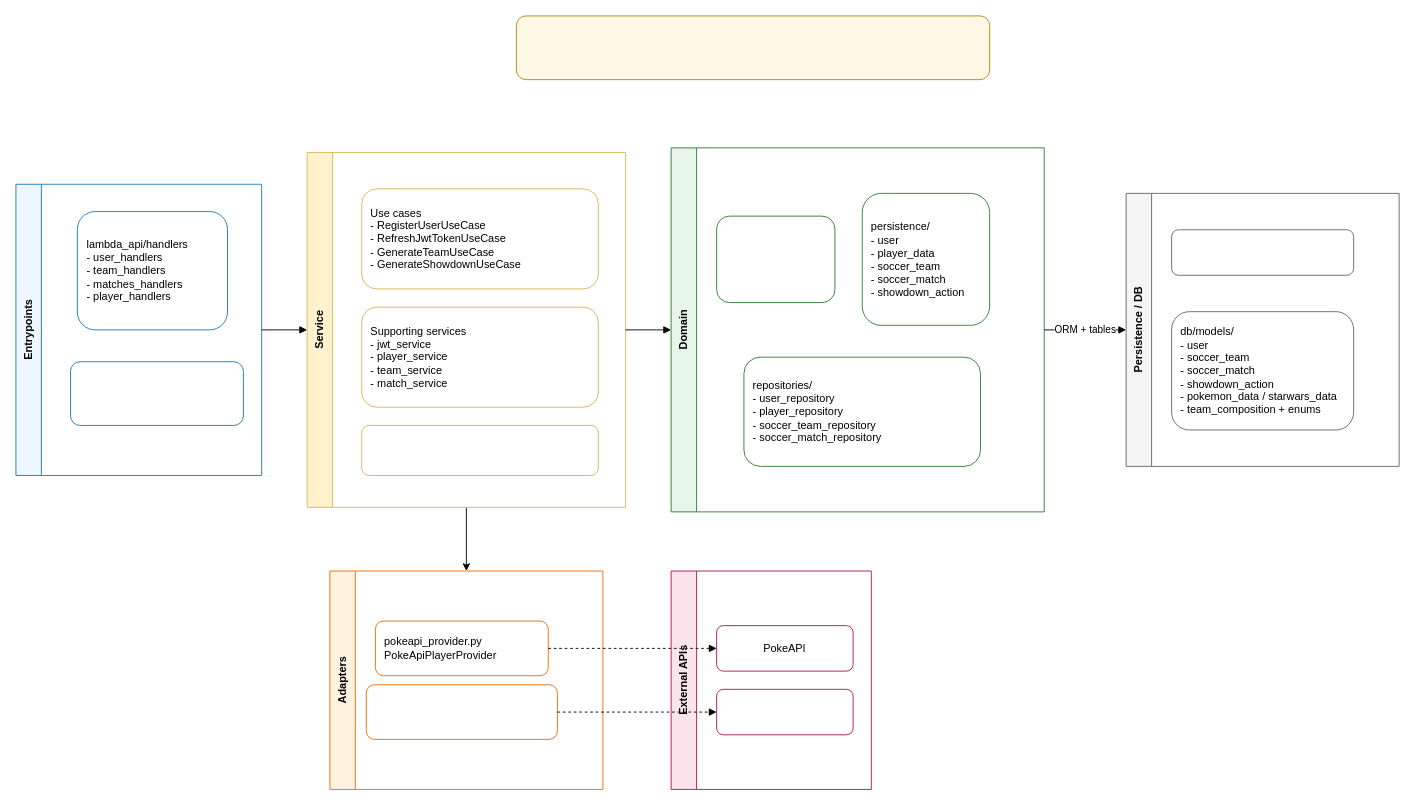
The diagram is 1415 pixels wide and 805 high, and some of its shapes have lost their labels. The shapes that lost their labels are listed below. From the top down, each one's centre as x and y in pixels, then its label:
At (753,47): "Super Soccer Showdown Code Architecture".
At (775,259): "Entities - Universe - Position - Lineup".
At (1262,252): "db/base.py SQLAlchemy base".
At (156,393): "lambda_api/bootstrap dependency wiring + lifecycle".
At (479,450): "service/exceptions domain-specific errors".
At (461,711): "swapi_provider.py SwapiPlayerProvider".
At (784,711): "SWAPI".
